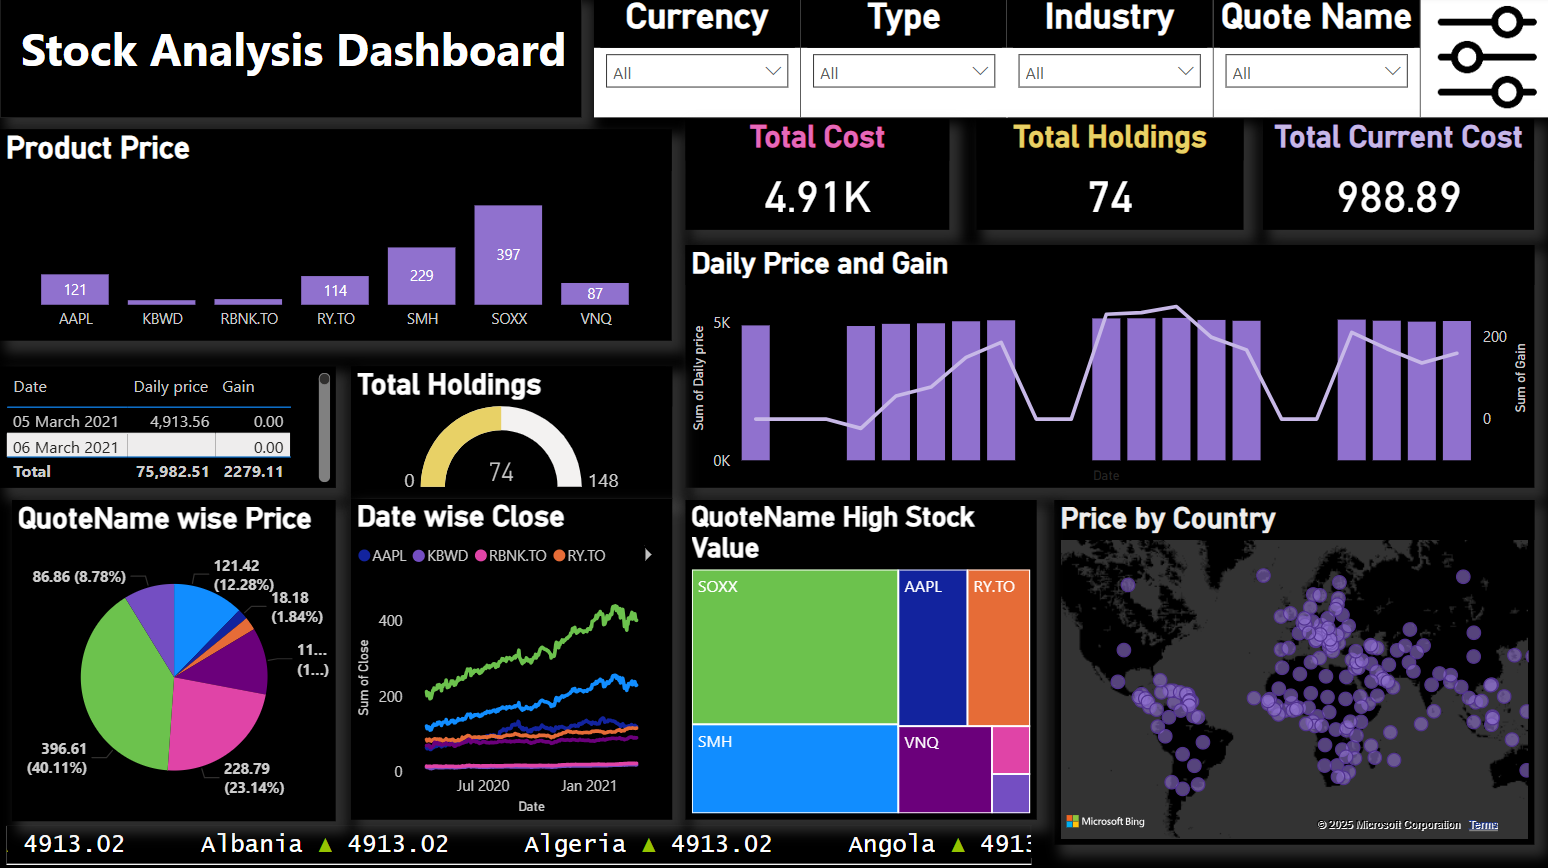

The dashboard page shown, as its layout file describes it:
{"tool":"powerbi","page":{"name":"Page 1","canvas":[1280,720],"ordinal":0},"visuals":[{"type":"textbox","box":[0,0,479.5,100.1],"z":0},{"type":"slicer","title":"Currency","fields":{"Values":["type.Currency"]},"box":[489.5,0,170.1,100.2],"z":1000},{"type":"slicer","title":"Type","fields":{"Values":["type.Type"]},"box":[659.5,0,170.1,100.2],"z":2000},{"type":"slicer","title":"Industry","fields":{"Values":["type.Industry"]},"box":[829.6,0,170.1,100.2],"z":3000},{"type":"slicer","title":"Quote Name","fields":{"Values":["type.QuoteName"]},"box":[999.7,0,170.1,100.2],"z":4000},{"type":"image","box":[1169.8,0,109.6,100.2],"z":5000},{"type":"columnChart","title":"Product Price","fields":{"Category":["holding.QuoteName"],"Y":["Sum(holding.Price)"]},"box":[0,110,553.6,174.2],"z":6000},{"type":"card","title":"Total Cost","fields":{"Values":["Sum(holding.Cost)"]},"box":[564.7,101.3,217.5,91.4],"z":7000},{"type":"card","title":"Total Holdings","fields":{"Values":["Sum(holding.Holdings)"]},"box":[804.5,101.3,220,91.4],"z":8000},{"type":"card","title":"Total Current Cost","fields":{"Values":["Sum(holding.Price)"]},"box":[1040.5,101.3,223.7,91.4],"z":9000},{"type":"lineClusteredColumnComboChart","title":"Daily Price and Gain ","fields":{"Y":["Sum(dailygain.Daily price)"],"Category":["dailygain.Date"],"Y2":["Sum(dailygain.Gain)"]},"box":[564.7,205.1,699.4,200.2],"z":10000},{"type":"tableEx","fields":{"Values":["dailygain.Date","Sum(dailygain.Daily price)","Sum(dailygain.Gain)"]},"box":[0,305.2,276.8,100.1],"z":11000},{"type":"gauge","title":"Total Holdings","fields":{"Y":["Sum(holding.Holdings)"]},"box":[289.2,305.2,264.4,108.7],"z":12000},{"type":"map","title":"Price by Country","fields":{"Category":["CountryName.Country"],"Size":["Sum(holding.Price)"]},"box":[868.7,415.2,395.4,284.2],"z":12001},{"type":"ScrollingTextVisual1448795304508","fields":{"Category":["CountryName.Country"],"Measure Deviation":["Sum(holding.Cost)"]},"box":[0,679,854.2,41.1],"z":12002},{"type":"pieChart","title":"QuoteName wise Price","fields":{"Y":["Sum(holding.Price)"],"Category":["holding.QuoteName"]},"box":[9.9,415.2,266.9,264.4],"z":12003},{"type":"lineChart","title":"Date wise Close","fields":{"Category":["stock.Date"],"Y":["Sum(stock.Close)"],"Series":["stock.QuoteName"]},"box":[289.2,414,264.4,264.4],"z":12004},{"type":"treemap","title":"QuoteName High Stock Value","fields":{"Group":["stock.QuoteName"],"Values":["Sum(stock.High)"]},"box":[564.7,415.2,289.2,263.2],"z":12005}]}

Visuals, with their boxes in screenshot pixels (x1, y1, x2, y2), scaled from the page's 1280x720 canvas onto the 1548x868 screenshot:
textbox: <bbox>0, 0, 580, 121</bbox>
"Currency" slicer: <bbox>592, 0, 798, 121</bbox>
"Type" slicer: <bbox>798, 0, 1003, 121</bbox>
"Industry" slicer: <bbox>1003, 0, 1209, 121</bbox>
"Quote Name" slicer: <bbox>1209, 0, 1415, 121</bbox>
image: <bbox>1415, 0, 1547, 121</bbox>
"Product Price" columnChart: <bbox>0, 133, 670, 343</bbox>
"Total Cost" card: <bbox>683, 122, 946, 232</bbox>
"Total Holdings" card: <bbox>973, 122, 1239, 232</bbox>
"Total Current Cost" card: <bbox>1258, 122, 1529, 232</bbox>
"Daily Price and Gain " lineClusteredColumnComboChart: <bbox>683, 247, 1529, 489</bbox>
tableEx - dailygain.Date x Sum(dailygain.Daily price): <bbox>0, 368, 335, 489</bbox>
"Total Holdings" gauge: <bbox>350, 368, 670, 499</bbox>
"Price by Country" map: <bbox>1051, 501, 1529, 843</bbox>
ScrollingTextVisual1448795304508 - CountryName.Country x Sum(holding.Cost): <bbox>0, 819, 1033, 867</bbox>
"QuoteName wise Price" pieChart: <bbox>12, 501, 335, 819</bbox>
"Date wise Close" lineChart: <bbox>350, 499, 670, 818</bbox>
"QuoteName High Stock Value" treemap: <bbox>683, 501, 1033, 818</bbox>
